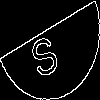S: (25, 25, 62, 81)
